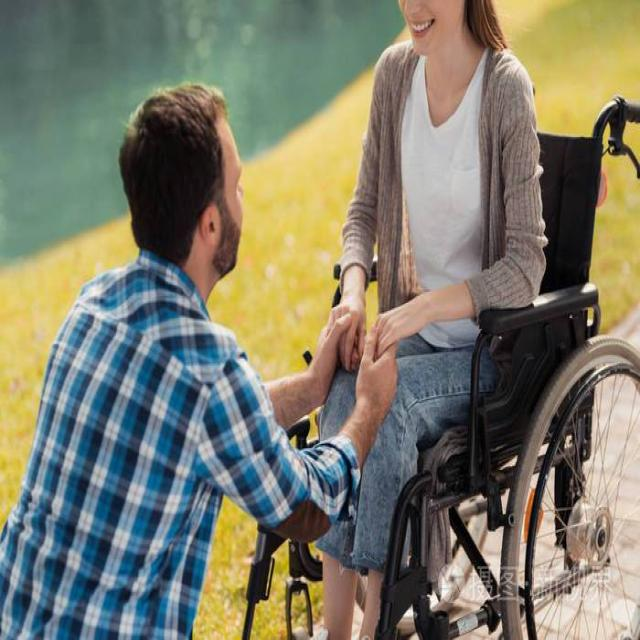wheelchairs: (209, 63, 640, 640)
